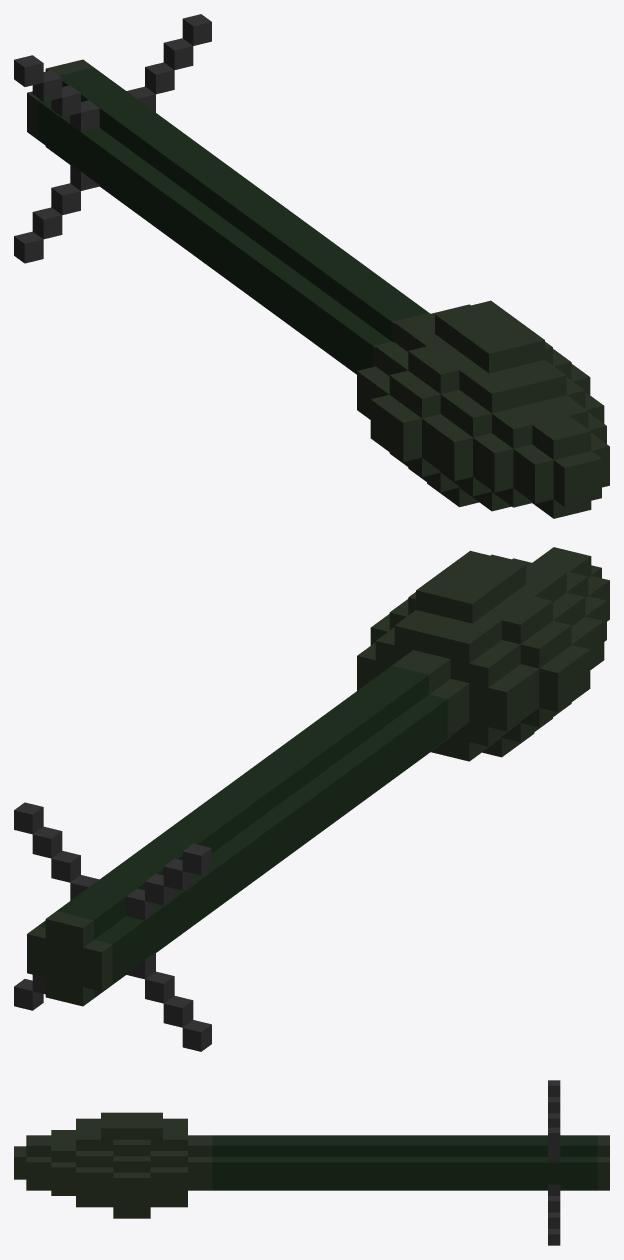
File: РПГ ракета.obj
3 views of the same model, one above another, from view 1: azimuth 30°, elevation 25°; view 2: azimuth 150°, elevation 25°; view 3: azimuth 270°, elevation 25° (orthographic). The views are drawn at different scales.
Bounding box in the file's own units: 1 × 1 × 4.8.
1 material, 1 textured.
